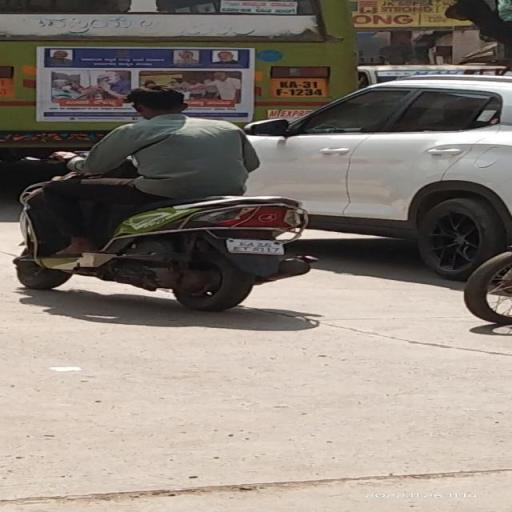bike: (14, 82, 320, 311)
numberplate: (226, 239, 284, 254)
withouthelmet: (130, 86, 184, 112)
